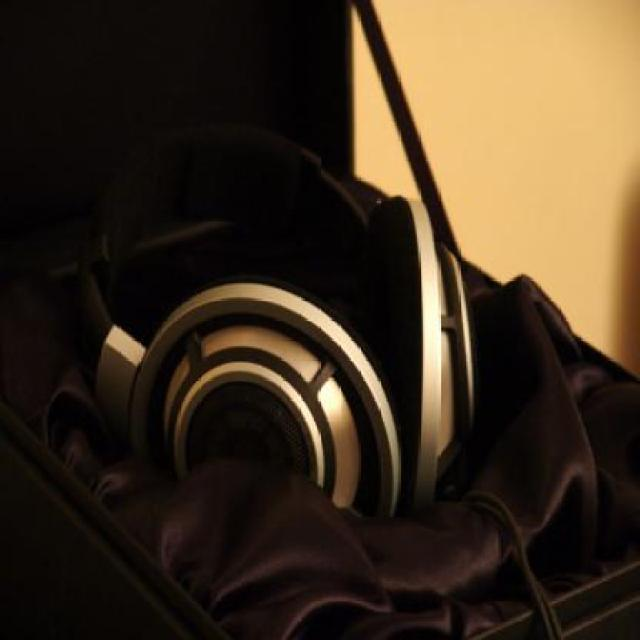earphone: (83, 119, 485, 534)
